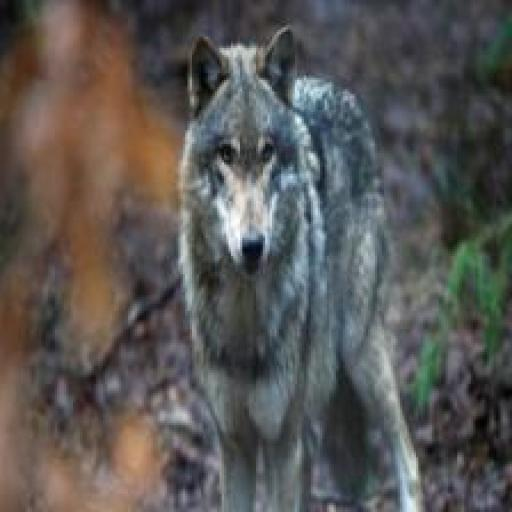wolf: (178, 18, 423, 512)
